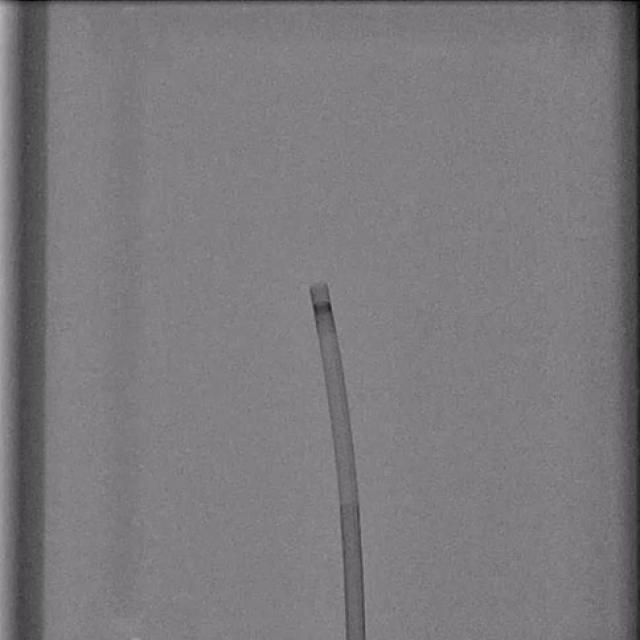bend: (338, 488, 358, 503)
entry: (346, 635, 366, 640)
marker: (314, 301, 331, 316)
tip: (308, 282, 328, 290)
